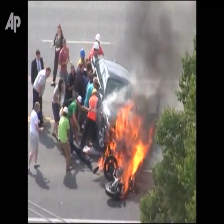fire_h: (104, 102, 153, 198)
fire_l: (106, 158, 116, 171), (97, 156, 104, 172)
